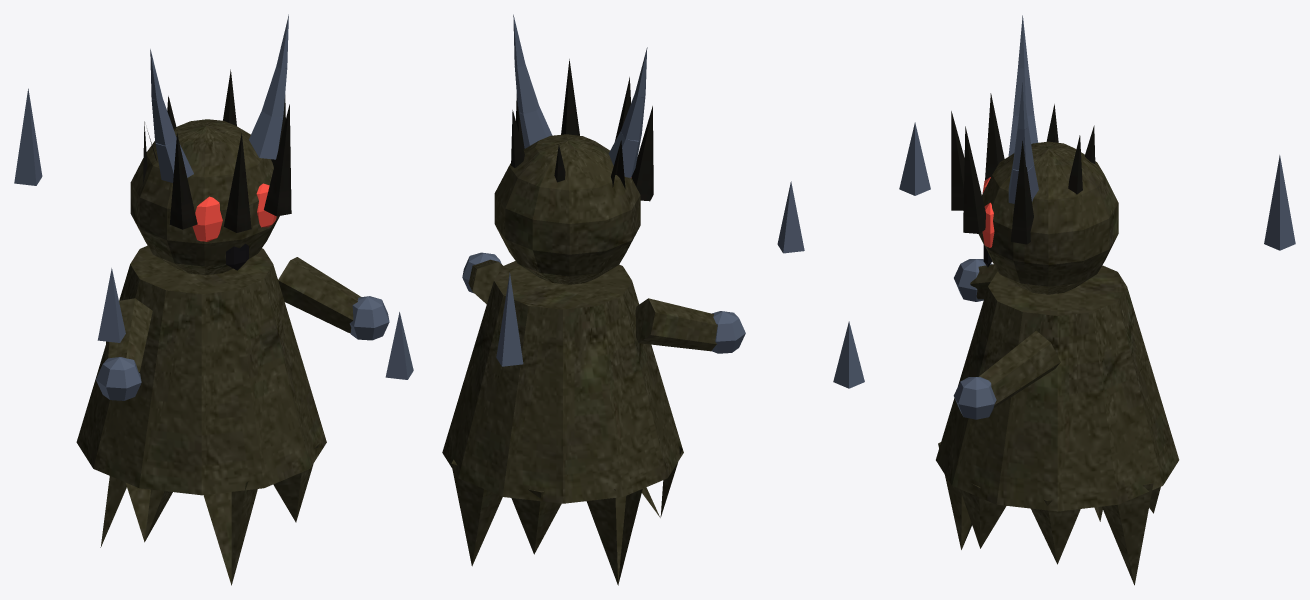
File: boss_10.glb
3 views of the same model, side by side, from view 1: azimuth 30°, elevation 25°; view 2: azimuth 150°, elevation 25°; view 3: azimuth 270°, elevation 25° (orthographic). The views are drawn at different scales.
Parts seen in each view (by area): view 1: boss_10; view 2: boss_10; view 3: boss_10.
Part boxes in pixels (x1,y1,x2,y2): boss_10: [14, 14, 413, 585]; boss_10: [442, 14, 804, 585]; boss_10: [833, 15, 1295, 585].
Size of the model in its own units: 1.43 by 2.25 by 1.83.
5 materials, 3 textured.
